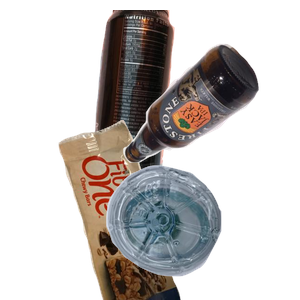glass: (120, 41, 300, 196)
metal: (91, 10, 258, 188)
plastic: (104, 163, 300, 300)
trash: (56, 120, 229, 300)
